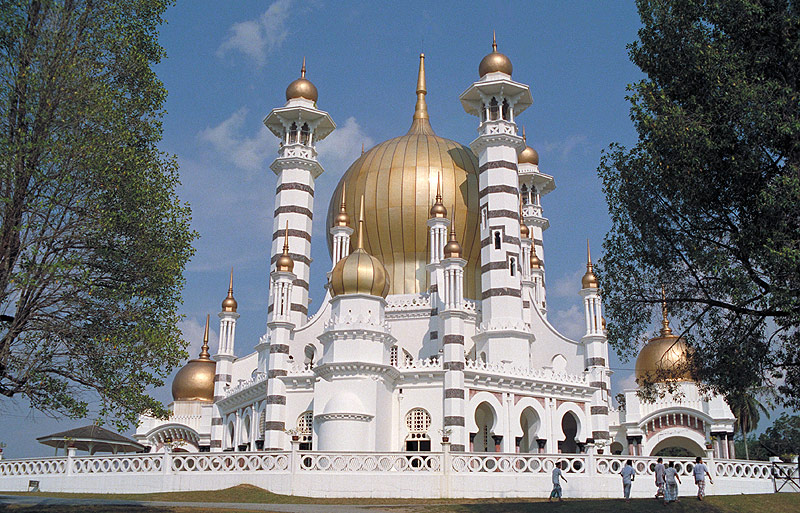Mosque: (123, 40, 708, 477)
